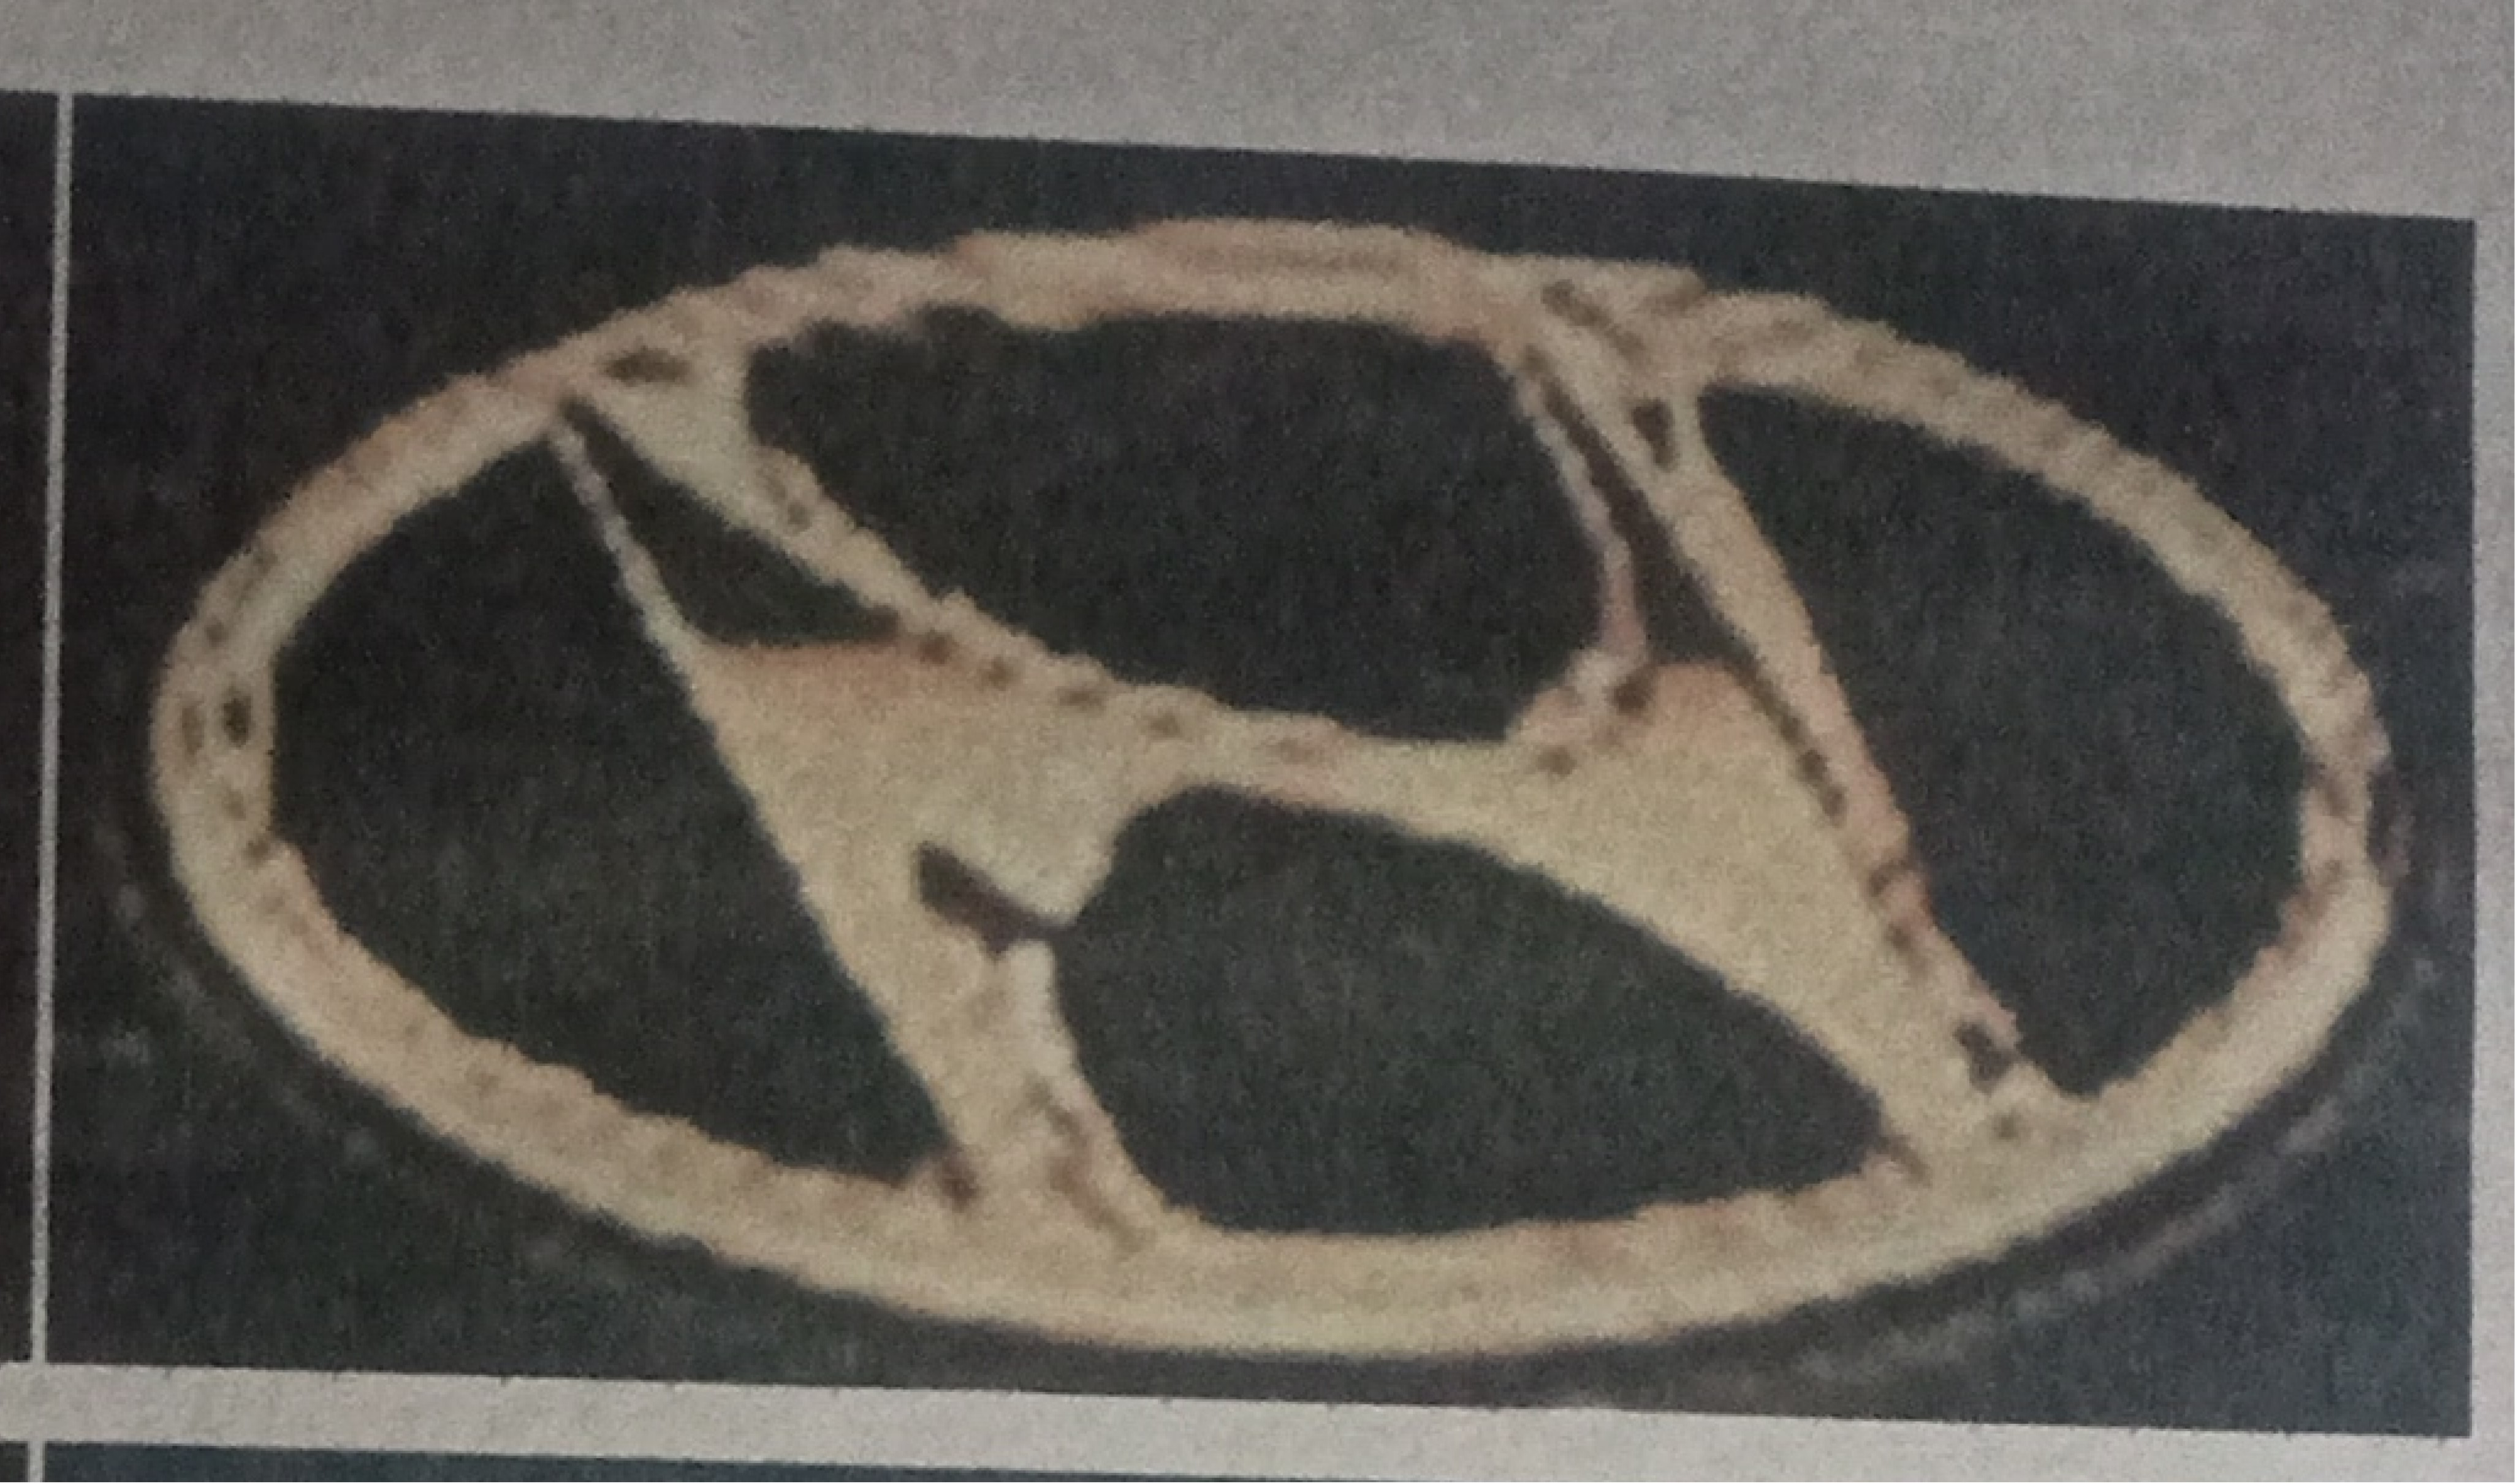Hyundai: (94, 168, 2431, 1390)
